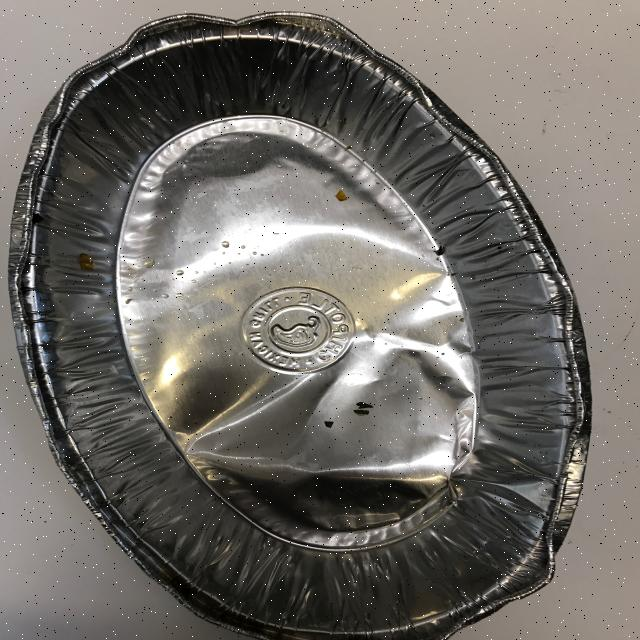metal: (7, 11, 593, 638)
